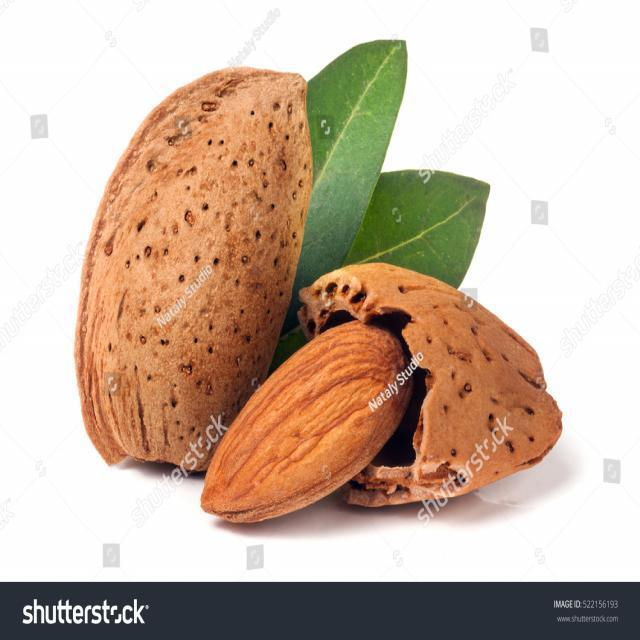almond: (198, 324, 417, 519)
